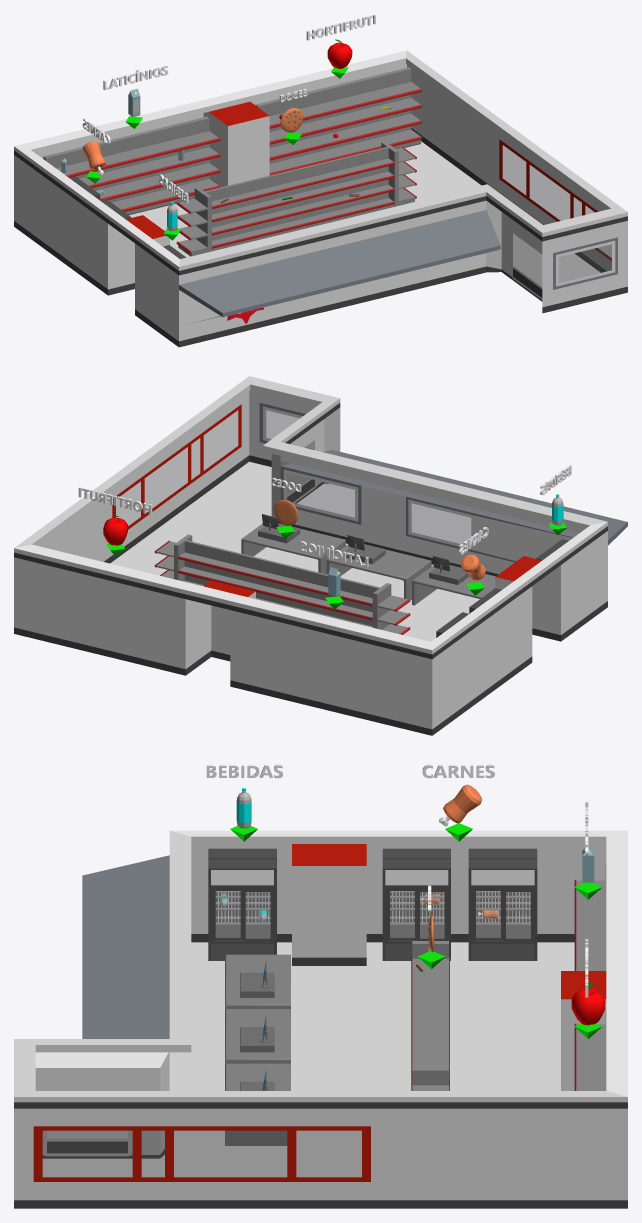
Rendered from IC_Mercado.glb.
3 renders of one model, top to bottom at view 1: azimuth 30°, elevation 25°; view 2: azimuth 150°, elevation 25°; view 3: azimuth 270°, elevation 25°, orthographic. The views are drawn at different scales.
Parts seen in each view (by area): view 1: mercado_IC:pasted__Cube.105, mercado_IC:pasted__Bodyframe, mercado_IC:pasted__Bodyframe.009, mercado_IC:pasted__Bodyframe.010, mercado_IC:typeMesh6, mercado_IC:typeMesh5, mercado_IC:Cylinder001, mercado_IC:meat; view 2: mercado_IC:pasted__Cube.105, mercado_IC:pasted__Bodyframe, mercado_IC:polySurface19, mercado_IC:polySurface16, mercado_IC:polySurface13, mercado_IC:Body1, mercado_IC:Body2, mercado_IC:typeMesh6, mercado_IC:typeMesh5, mercado_IC:Body, mercado_IC:Cylinder001, mercado_IC:Cookie_V1_001; view 3: mercado_IC:pasted__Cube.105, mercado_IC:pasted__Bodyframe, mercado_IC:polySurface10, mercado_IC:polySurface1, mercado_IC:polySurface21, mercado_IC:polySurface13, mercado_IC:polySurface19, mercado_IC:pasted__Bodyframe.010, mercado_IC:polySurface16, mercado_IC:polySurface17, mercado_IC:polySurface14, mercado_IC:polySurface8 (+13 smaller).
Boxes of the visible parts, x1,y1,x2,y2 form: mercado_IC:pasted__Cube.105: (14, 50, 627, 347); mercado_IC:pasted__Bodyframe: (176, 141, 416, 256); mercado_IC:pasted__Bodyframe.009: (255, 67, 422, 175); mercado_IC:pasted__Bodyframe.010: (43, 116, 220, 214); mercado_IC:typeMesh6: (306, 14, 375, 40); mercado_IC:typeMesh5: (103, 65, 168, 90); mercado_IC:Cylinder001: (327, 42, 352, 68); mercado_IC:meat: (82, 141, 105, 176); mercado_IC:pasted__Cube.105: (14, 376, 627, 735); mercado_IC:pasted__Bodyframe: (154, 534, 410, 634); mercado_IC:polySurface19: (326, 544, 431, 600); mercado_IC:polySurface16: (241, 523, 345, 574); mercado_IC:polySurface13: (412, 565, 495, 605); mercado_IC:Body1: (429, 555, 469, 584); mercado_IC:Body2: (344, 535, 385, 564); mercado_IC:typeMesh6: (78, 487, 152, 514); mercado_IC:typeMesh5: (299, 541, 368, 567); mercado_IC:Body: (258, 514, 300, 543); mercado_IC:Cylinder001: (103, 517, 128, 545); mercado_IC:Cookie_V1_001: (274, 500, 298, 525); mercado_IC:pasted__Cube.105: (14, 830, 627, 1208); mercado_IC:pasted__Bodyframe: (411, 941, 449, 1090); mercado_IC:polySurface10: (468, 848, 537, 960); mercado_IC:polySurface1: (208, 848, 276, 960); mercado_IC:polySurface21: (382, 848, 450, 960); mercado_IC:polySurface13: (225, 954, 290, 1009); mercado_IC:polySurface19: (225, 1009, 290, 1063); mercado_IC:pasted__Bodyframe.010: (574, 863, 606, 970); mercado_IC:polySurface16: (225, 1063, 290, 1145); mercado_IC:polySurface17: (476, 891, 530, 938); mercado_IC:polySurface14: (216, 891, 270, 938); mercado_IC:polySurface8: (390, 891, 444, 938).
Size of the model in its own units: 2.47 by 0.8518 by 2.41.
